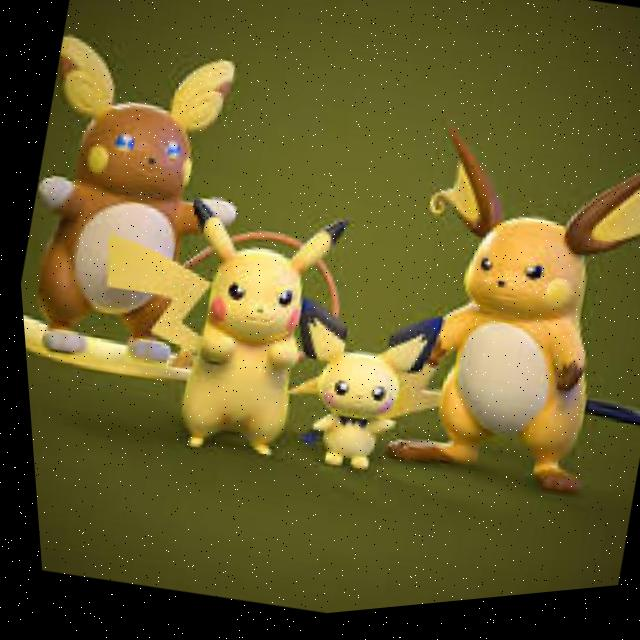pichu: (250, 287, 452, 518)
